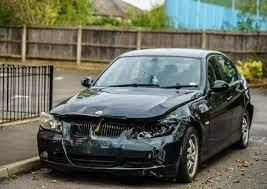bonnet-dent: (50, 86, 199, 121)
front-bumper-dent: (36, 129, 180, 172)
